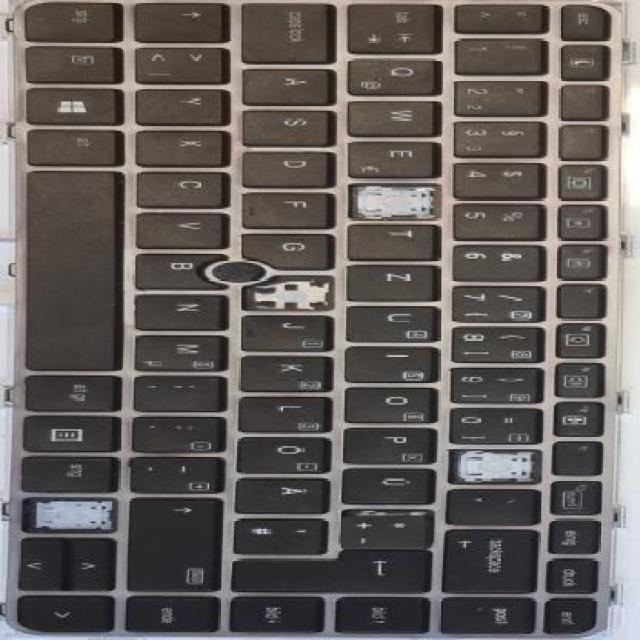Keyboard problems: (245, 275, 332, 309), (351, 185, 440, 218), (449, 451, 538, 483), (31, 498, 115, 529)
